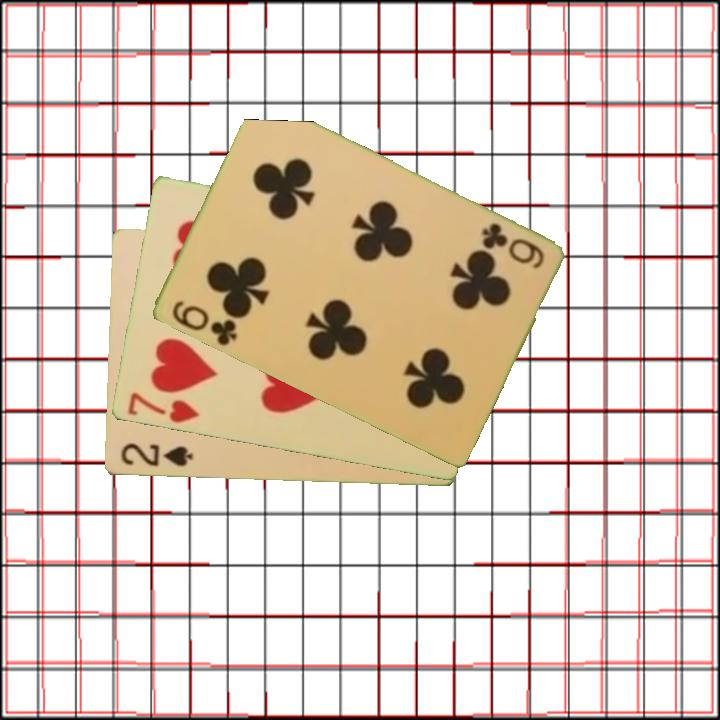2s: (117, 440, 195, 470)
6c: (168, 297, 240, 349), (477, 219, 547, 272)
7h: (123, 388, 202, 426)
